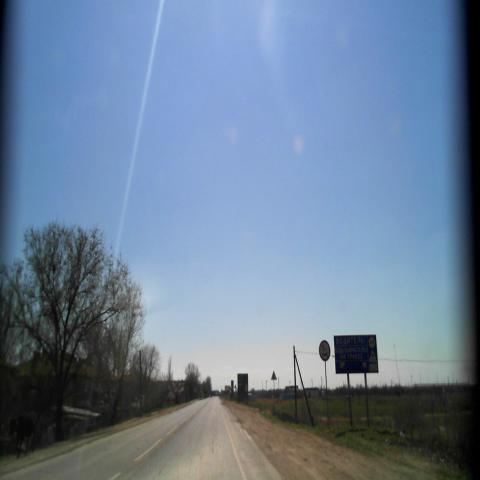3_12: (319, 339, 331, 362)
